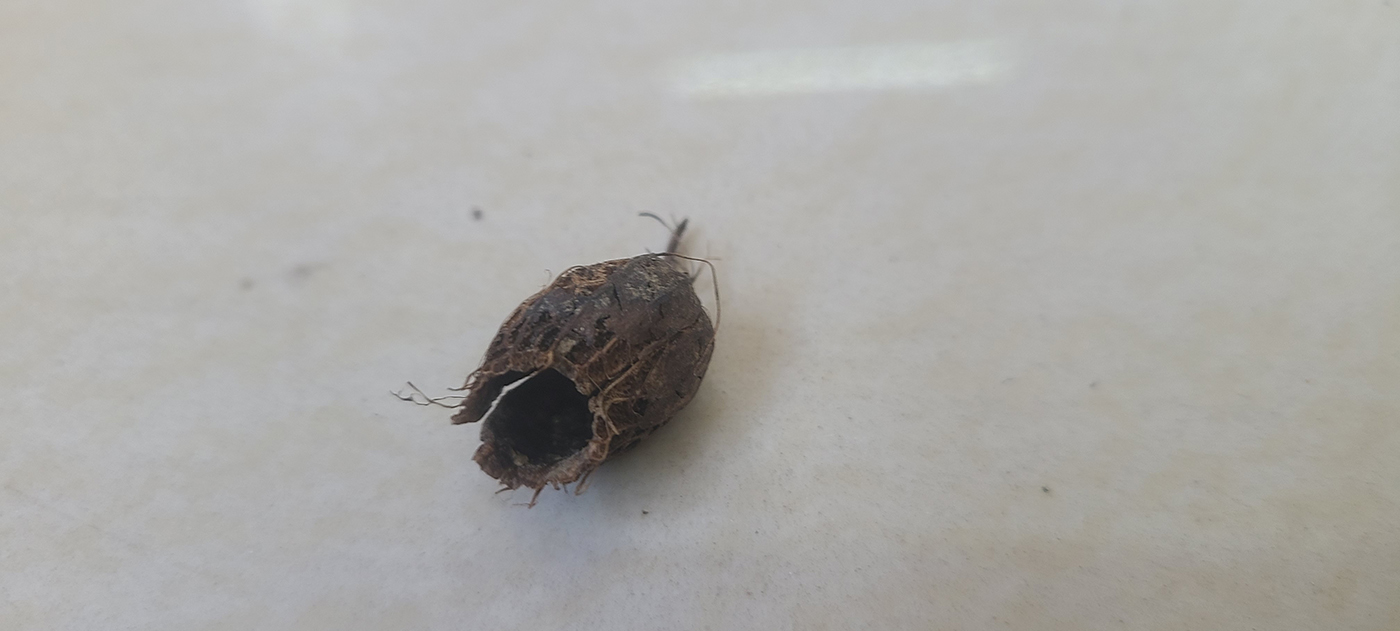l: (444, 259, 719, 488)
